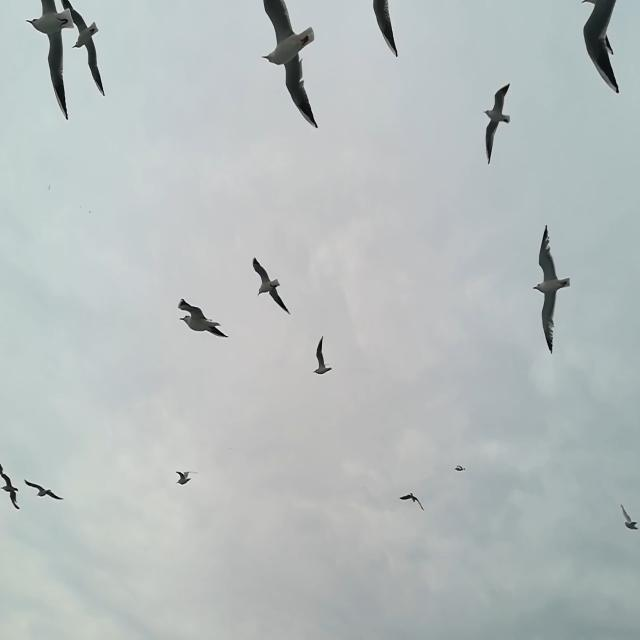bird: (261, 0, 319, 130), (26, 0, 74, 122), (532, 226, 572, 352), (60, 0, 105, 97), (580, 0, 620, 95), (483, 81, 510, 166), (251, 258, 289, 314), (179, 300, 230, 338), (372, 0, 397, 56), (0, 464, 21, 512), (24, 481, 63, 502), (312, 336, 331, 376), (619, 500, 639, 530), (398, 491, 424, 512), (176, 469, 198, 486), (454, 463, 466, 473), (48, 184, 51, 191), (89, 210, 91, 214), (80, 205, 82, 208)
